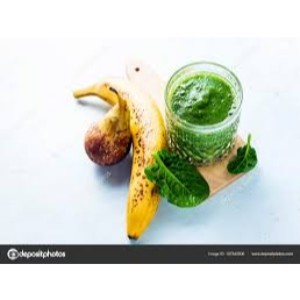spinach_brain food: (160, 69, 245, 202)
